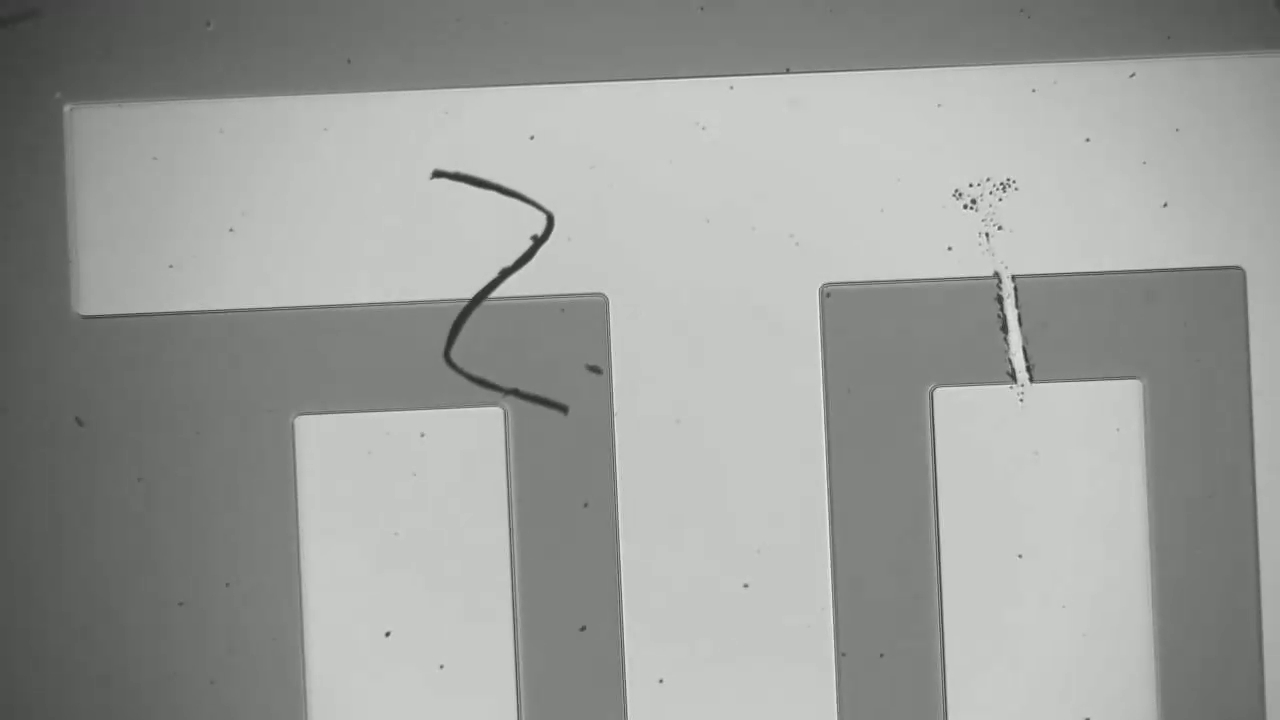Short_circuit: (976, 242, 1052, 407)
